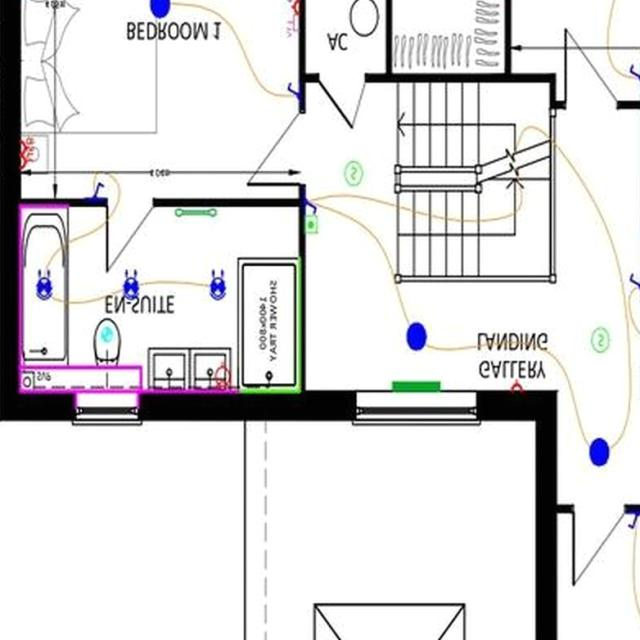Ceiling Mounted Continuous Extract FanWith Boost Mode Activated By Light Switch: (101, 328, 112, 343)
Co-Ax TV Socket: (284, 16, 299, 38)
Double Socket: (290, 0, 300, 14)
Light Switch: (88, 183, 104, 199), (626, 514, 640, 529), (628, 274, 640, 291), (628, 65, 640, 82), (287, 84, 298, 100), (305, 200, 316, 216)
Low Energy Downlighter: (34, 270, 52, 300), (209, 271, 226, 301), (122, 271, 138, 300)
Low Energy Pendant Light: (588, 439, 609, 467), (406, 323, 426, 352), (150, 0, 169, 19)
Mains Wired Smoke Detector: (589, 329, 609, 353), (343, 162, 362, 187)
Programmable Room Thermostat: (304, 217, 317, 234)
Radiator: (391, 382, 440, 394)
Shaver Socket: (214, 363, 232, 391)
Single Socket: (509, 380, 523, 393)
USB Double Socket: (19, 139, 35, 170)
